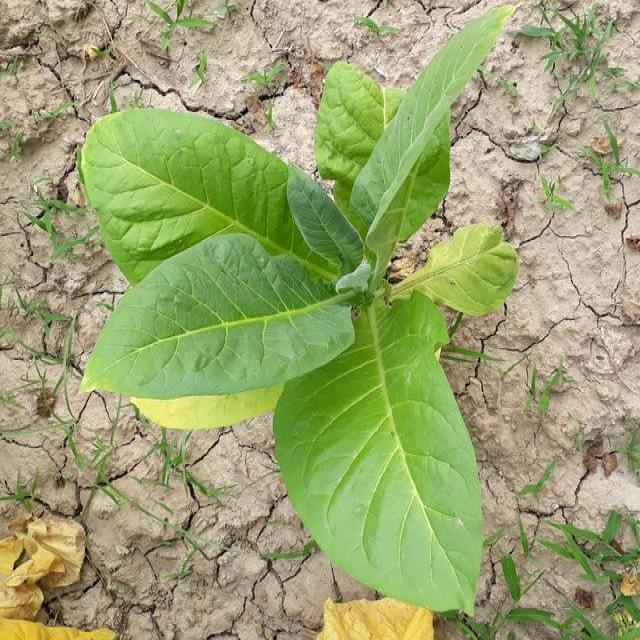crop: (99, 31, 512, 614)
